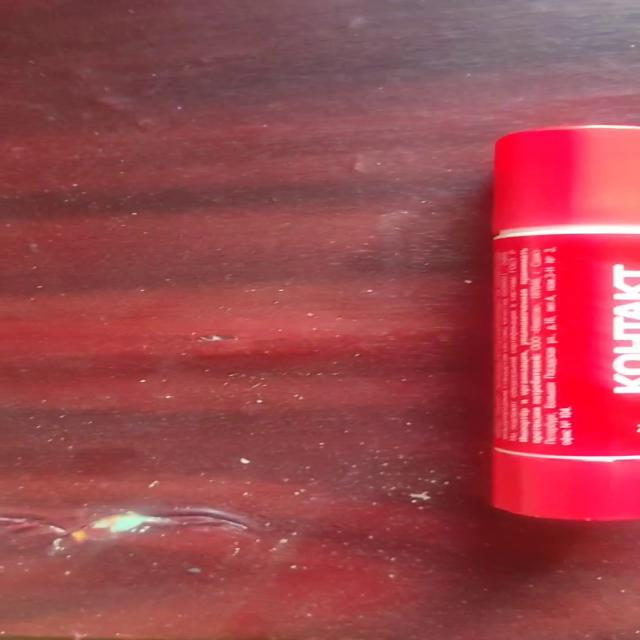glue: (488, 123, 638, 521)
